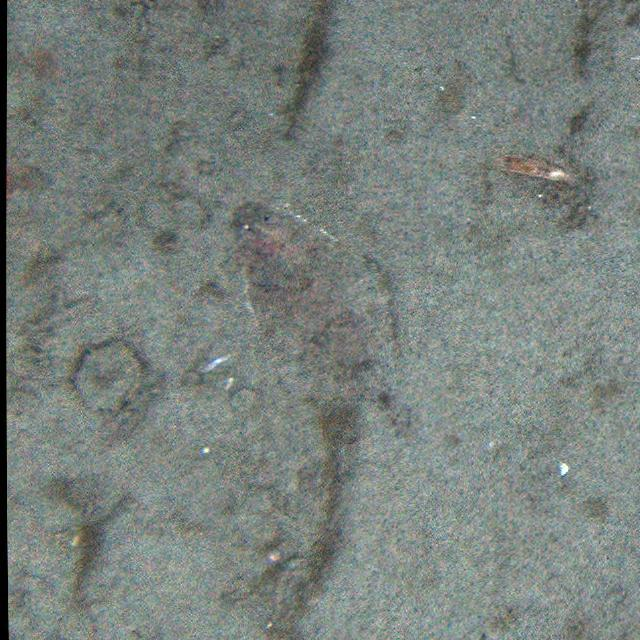flatfish: (227, 193, 436, 450)
